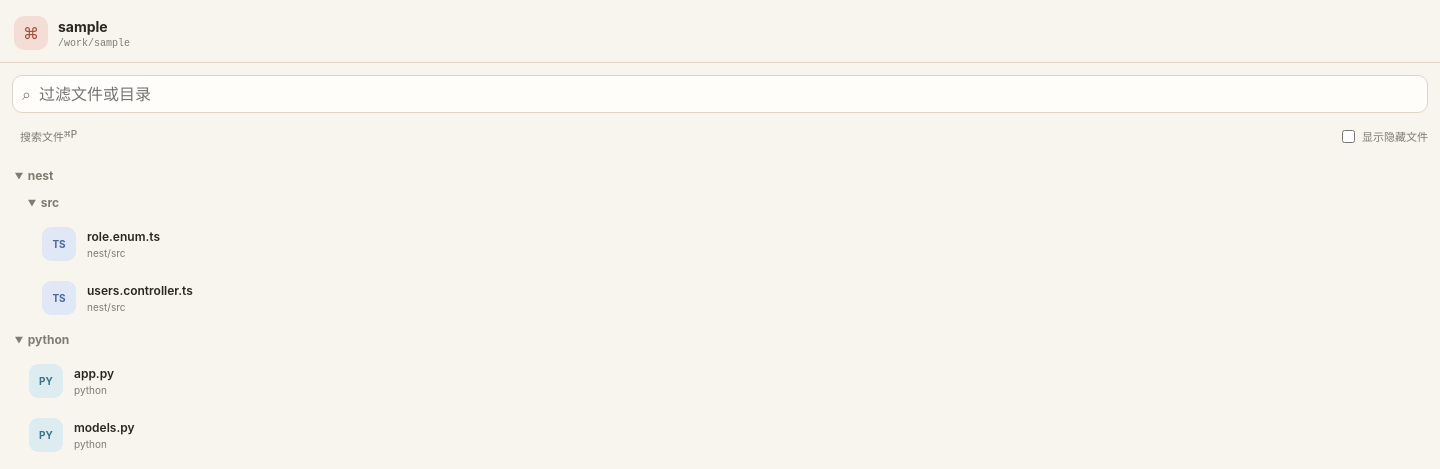
FileBrowser › applies hidden visibility before the persistent query
Type ".env" into the search field labelled "过滤文件或目录". click: point(724, 94)
box: [31,76,1418,112]
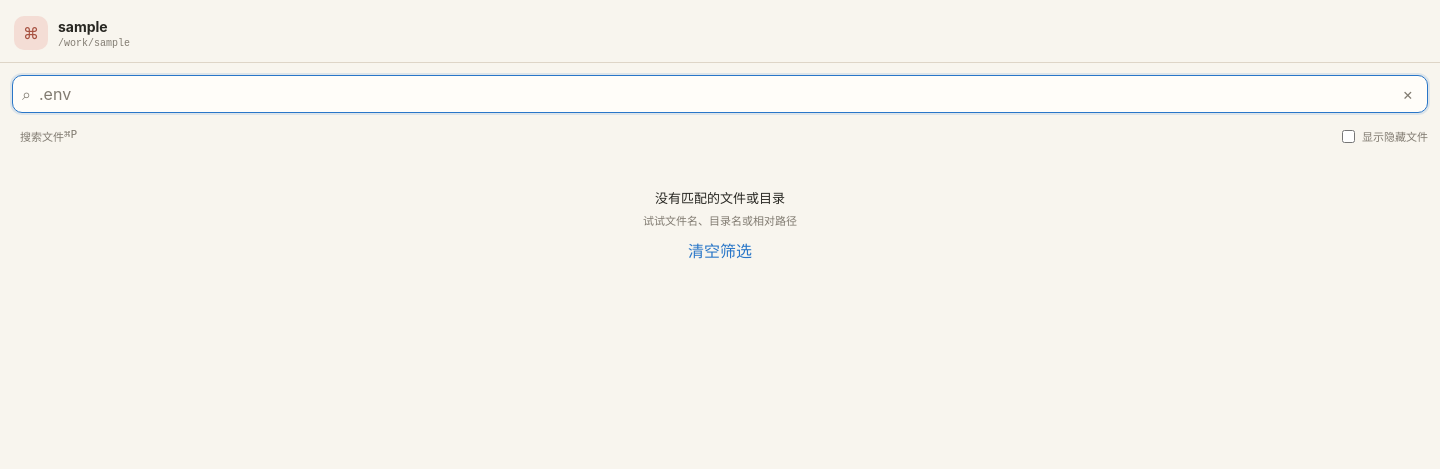
Result: the text "没有匹配的文件或目录" is shown at [655,190,785,206]
Click the checkbox labelled "显示隐藏文件". click: point(1348, 136)
box: [1342,130,1355,142]
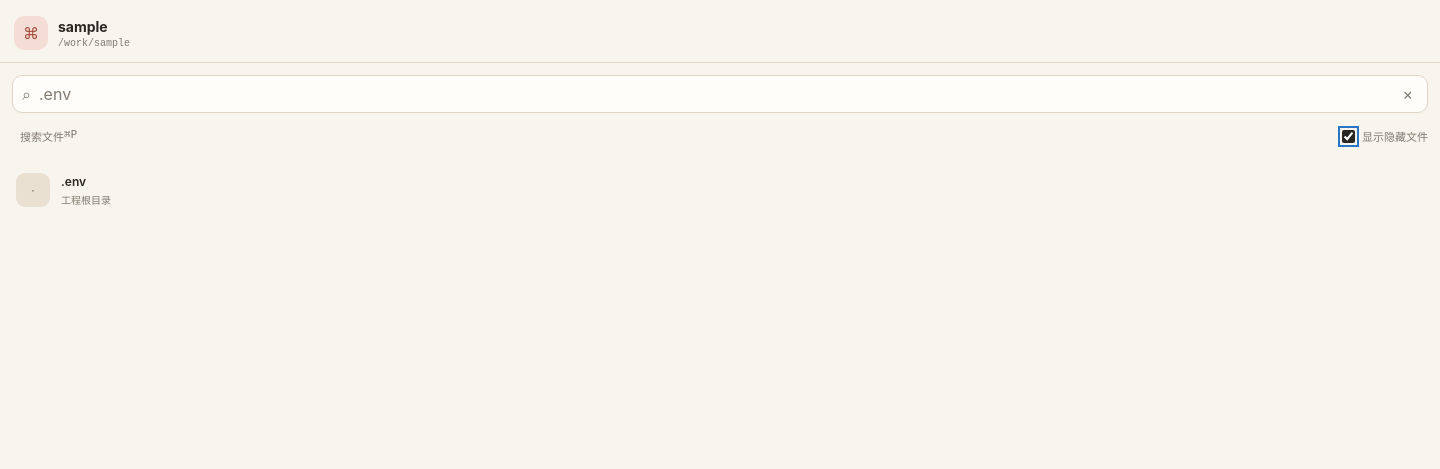
Result: the list item ".env" is shown at [8,164,1432,216]
